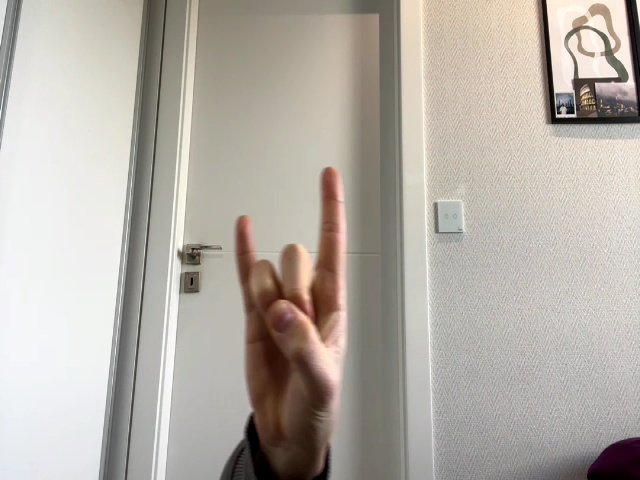Y: (235, 167, 347, 435)
